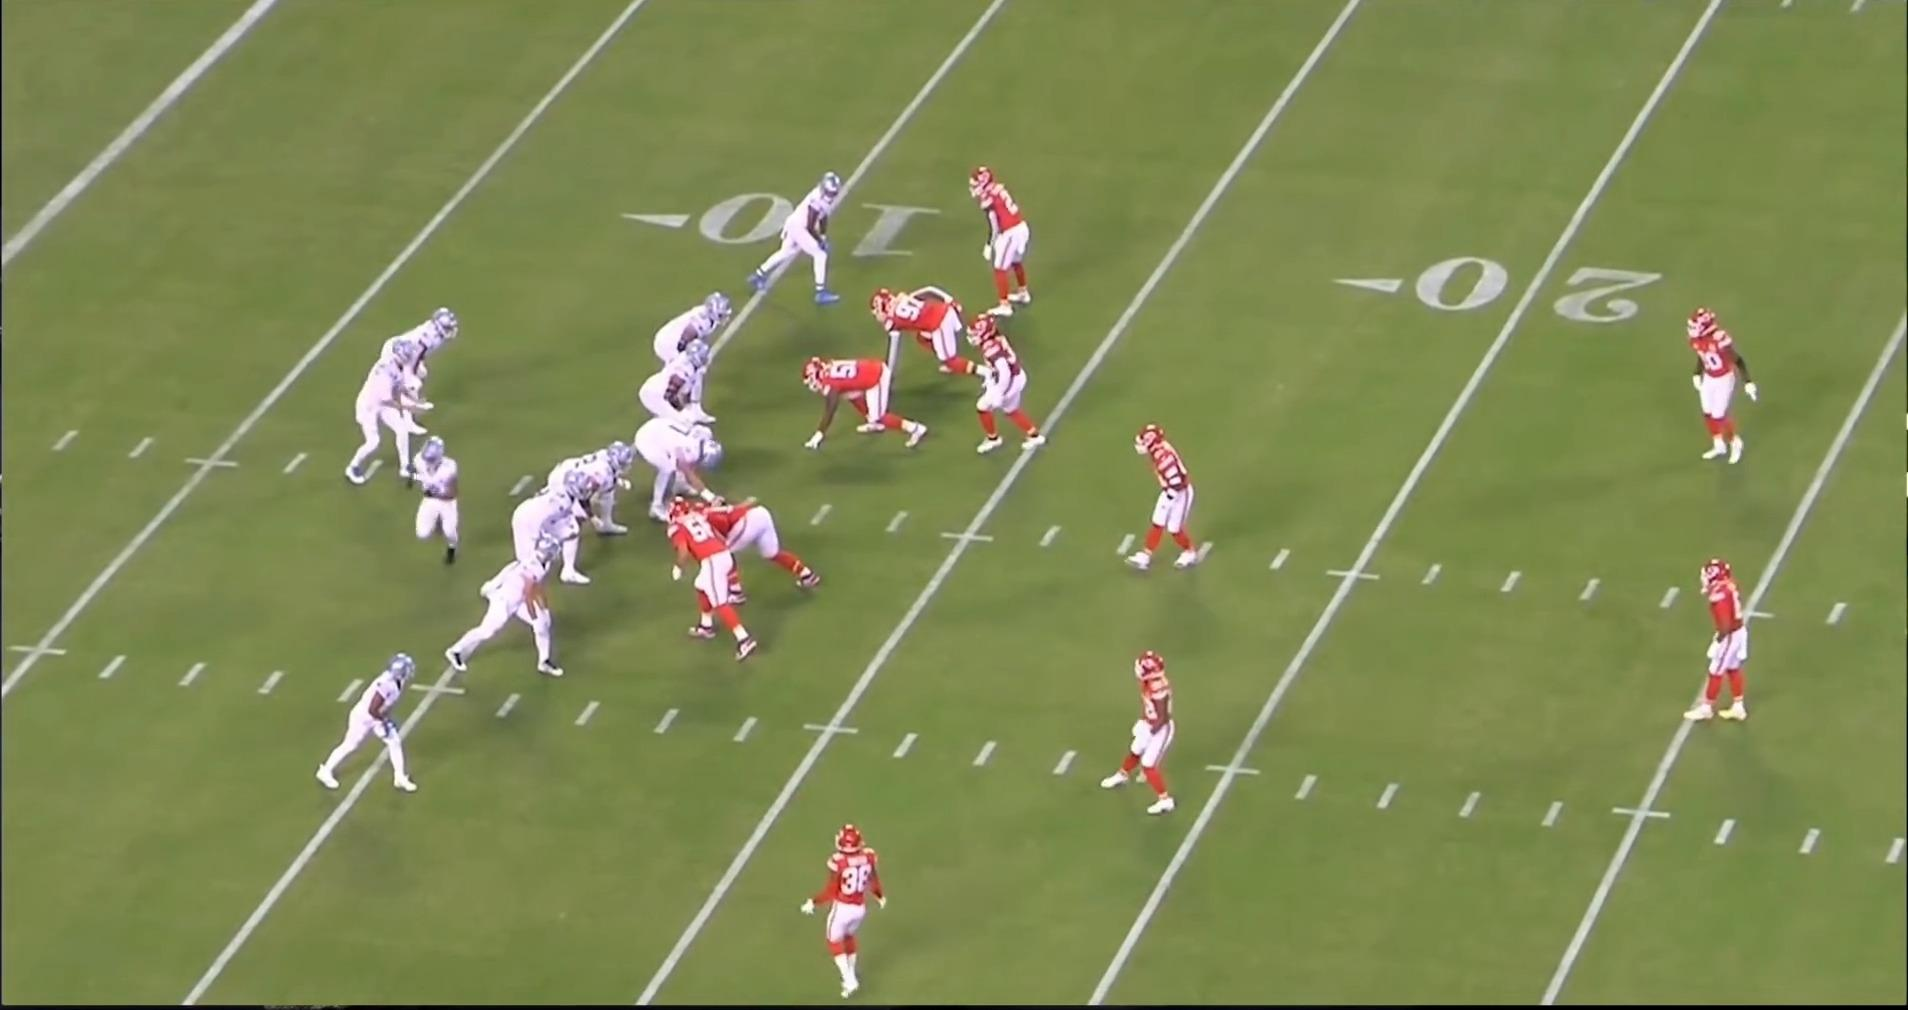player: (440, 535, 571, 683), (306, 647, 423, 800), (665, 496, 762, 663), (483, 461, 591, 601), (745, 166, 853, 305), (810, 816, 893, 993), (688, 493, 829, 597), (1096, 642, 1178, 816), (1684, 557, 1761, 732), (794, 351, 929, 450), (341, 349, 430, 497), (1684, 306, 1758, 476), (867, 286, 990, 386), (1132, 420, 1210, 576), (967, 312, 1049, 456), (970, 158, 1042, 318), (658, 286, 744, 418), (640, 407, 735, 524), (538, 441, 628, 556), (409, 432, 475, 575), (394, 307, 462, 424), (638, 340, 720, 428)
